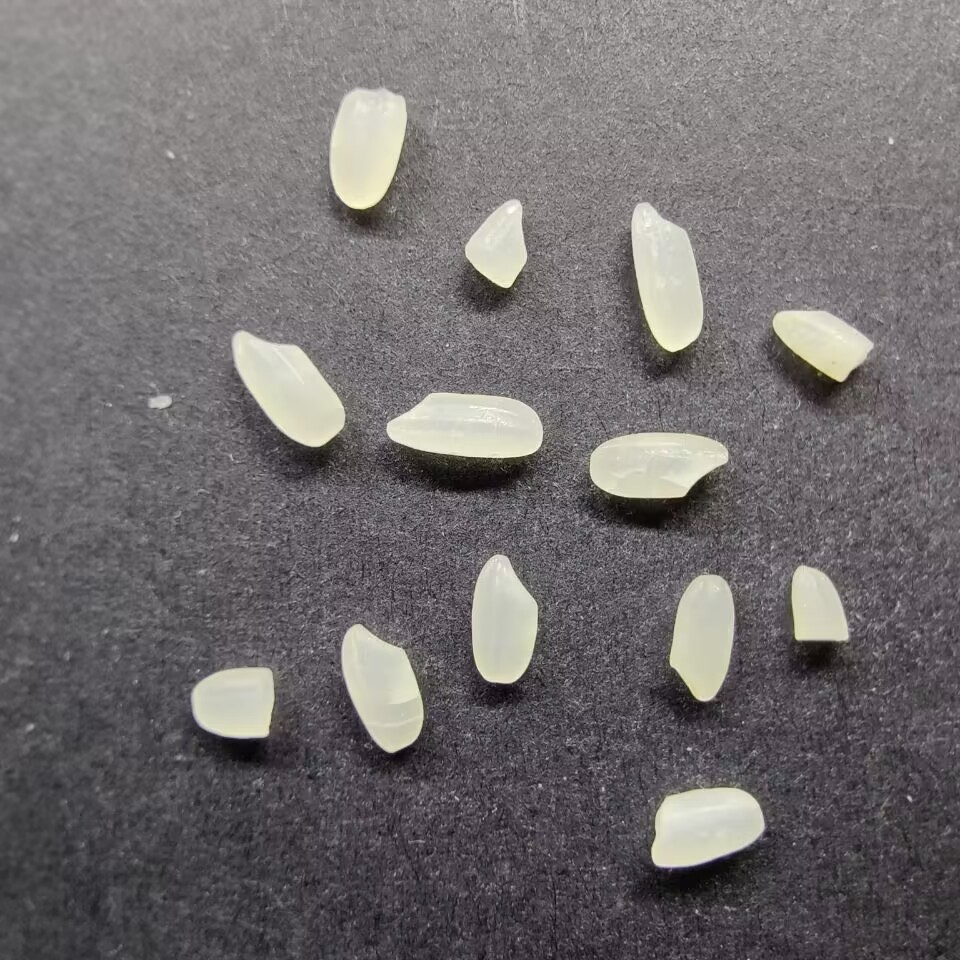broken: (326, 86, 408, 210), (647, 786, 767, 869), (769, 307, 872, 385), (189, 664, 278, 742), (461, 198, 529, 289), (789, 561, 852, 646)
rice: (230, 327, 346, 450), (629, 199, 706, 353), (339, 619, 425, 754), (382, 391, 545, 461), (588, 430, 730, 500), (667, 571, 736, 704), (470, 551, 538, 685)
